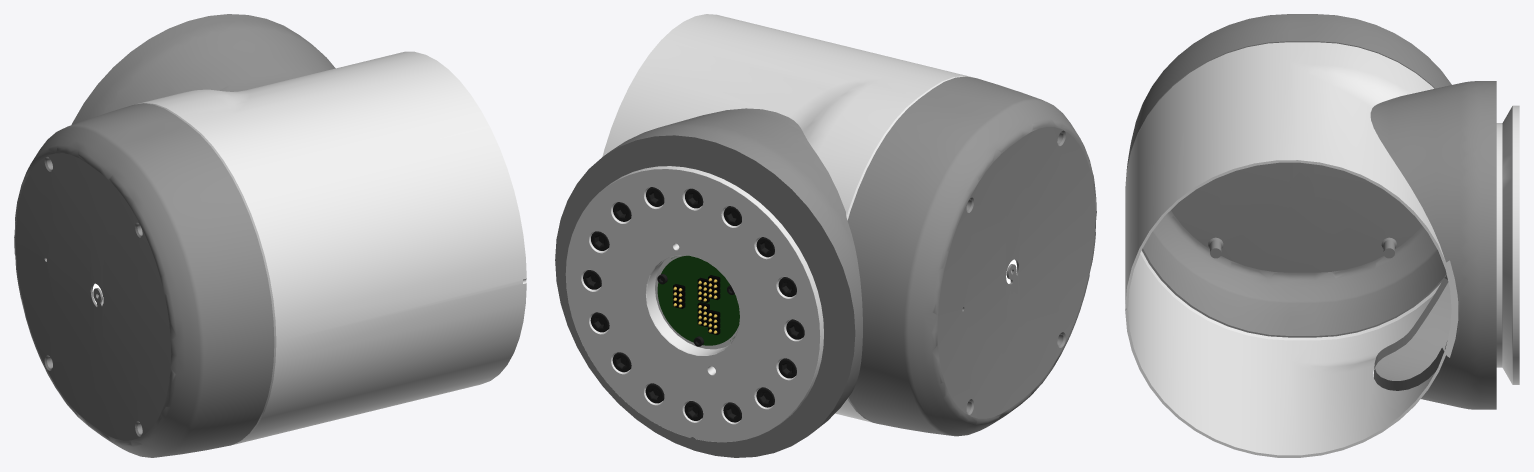
File: D148-KM-proximal.glb
3 views of the same model, side by side, from view 1: azimuth 30°, elevation 25°; view 2: azimuth 150°, elevation 25°; view 3: azimuth 270°, elevation 25° (orthographic). The views are drawn at different scales.
Parts seen in each view (by area): view 1: D148-KM-proximal.001; view 2: D148-KM-proximal.001; view 3: D148-KM-proximal.001.
Boxes of the visible parts, left/top/right/bottom form: D148-KM-proximal.001: left=14, top=14, right=526, bottom=457; D148-KM-proximal.001: left=555, top=14, right=1096, bottom=457; D148-KM-proximal.001: left=1125, top=14, right=1519, bottom=457.
Size of the model in its own units: 0.177 by 0.148 by 0.1774.
